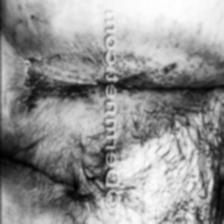Non-Cancerous Skin Condition: (18, 45, 184, 123)
